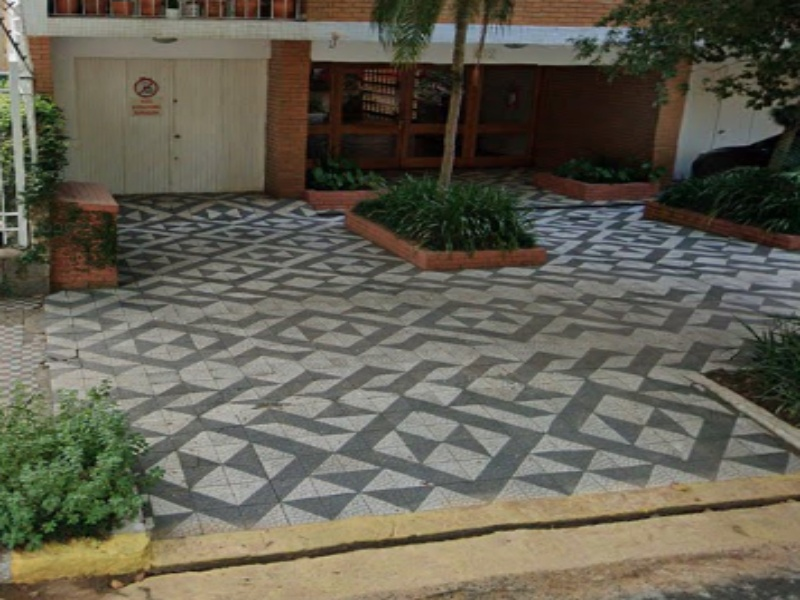g75: (150, 453, 800, 600)
